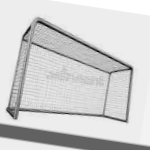goals: (6, 16, 135, 122)
